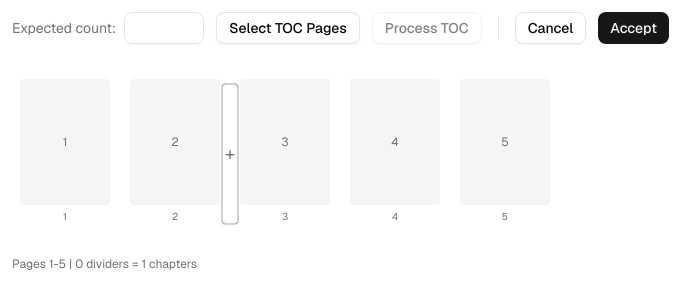
Test: PageStripEditor keyboard + screen-reader access (KAN-294) › adds a divider at the focused page on keyboard activation and keeps focus in the strip
Click the button named "Add chapter divider before page 3" at (230, 154), box left=222, top=84, right=238, bottom=224
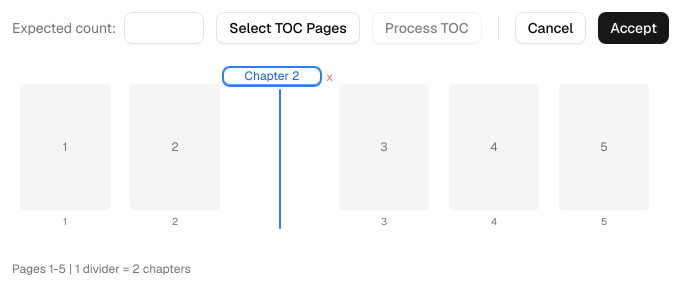
Expected: the field named "Chapter title for the chapter starting at page 3" is shown, left=224, top=68, right=320, bottom=85
